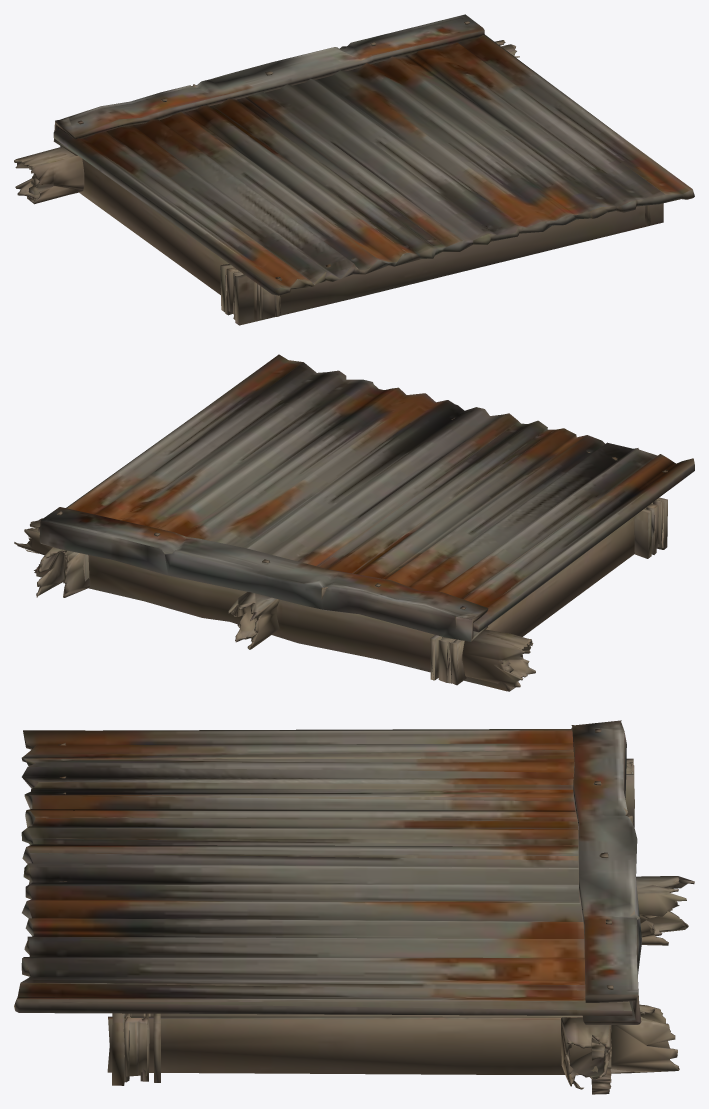
Rendered from k-roof-flat.glb.
3 views of the same model, one above another, from view 1: azimuth 30°, elevation 25°; view 2: azimuth 150°, elevation 25°; view 3: azimuth 270°, elevation 25° (orthographic). The views are drawn at different scales.
Size of the model in its own units: 0.9556 by 0.1343 by 0.8306.
1 material, 1 textured.
